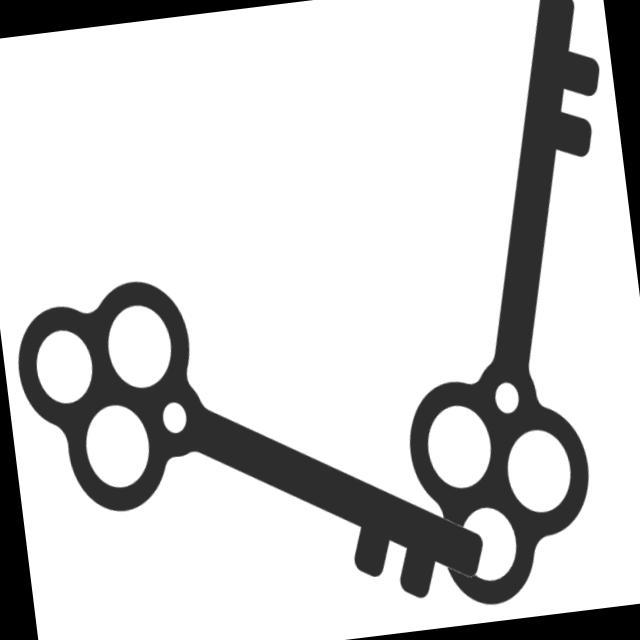key: (1, 231, 500, 640), (346, 1, 640, 623)
